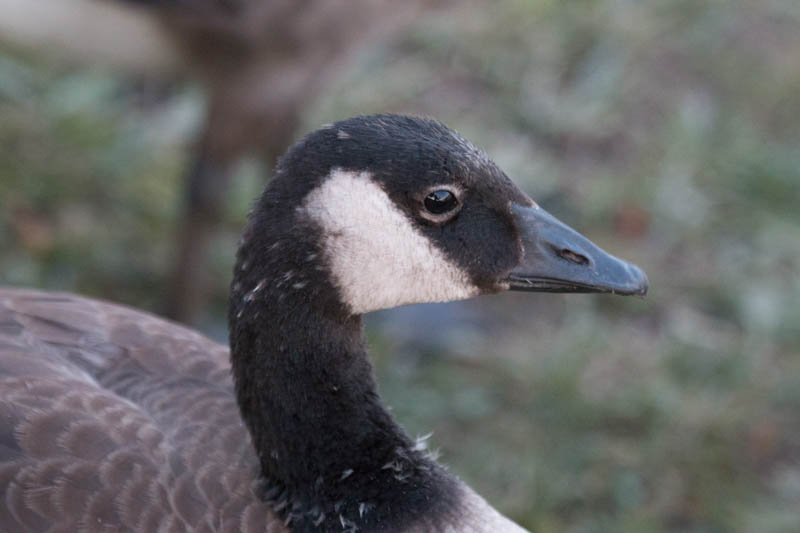goose-head: (230, 113, 649, 317)
